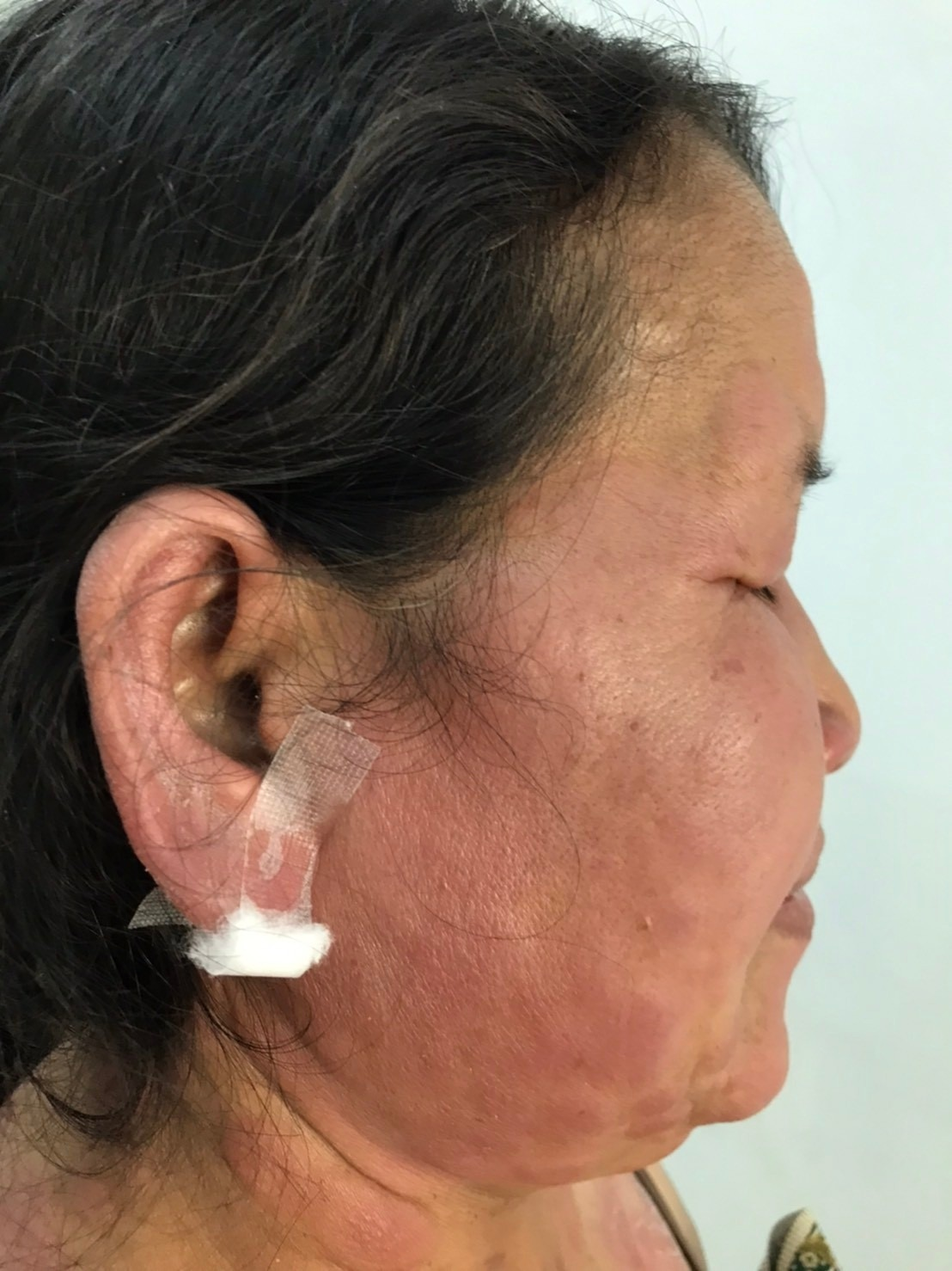Leprosy: (444, 619, 742, 1093), (70, 473, 317, 913), (701, 354, 787, 471), (221, 1111, 318, 1214), (328, 1197, 430, 1267)
